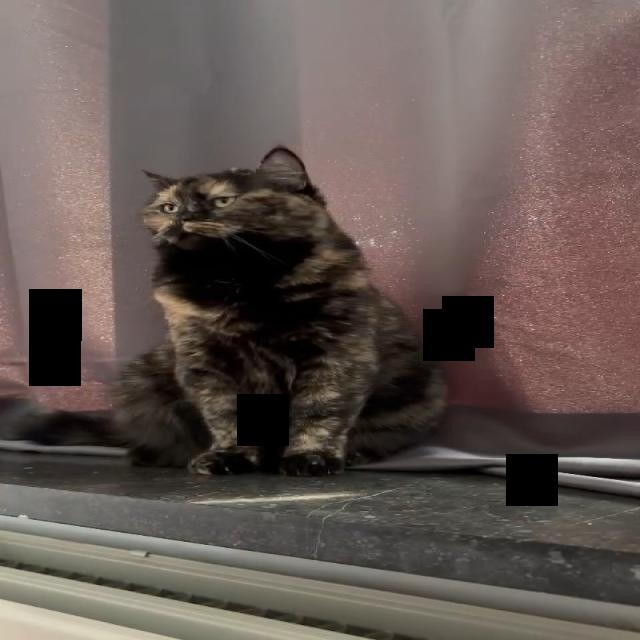authorized: (107, 144, 449, 477)
